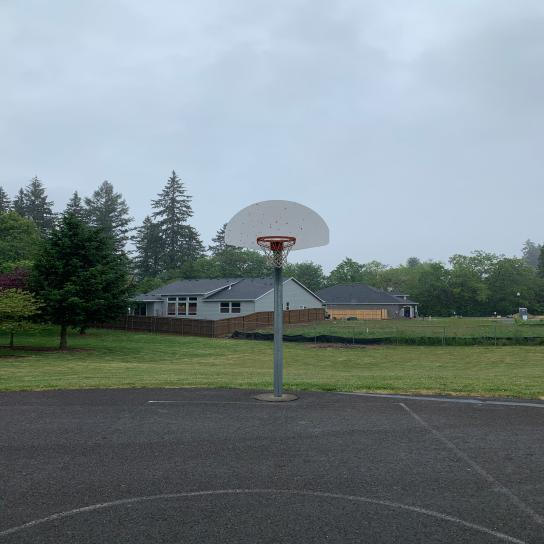basketball-hoop: (256, 235, 297, 269)
